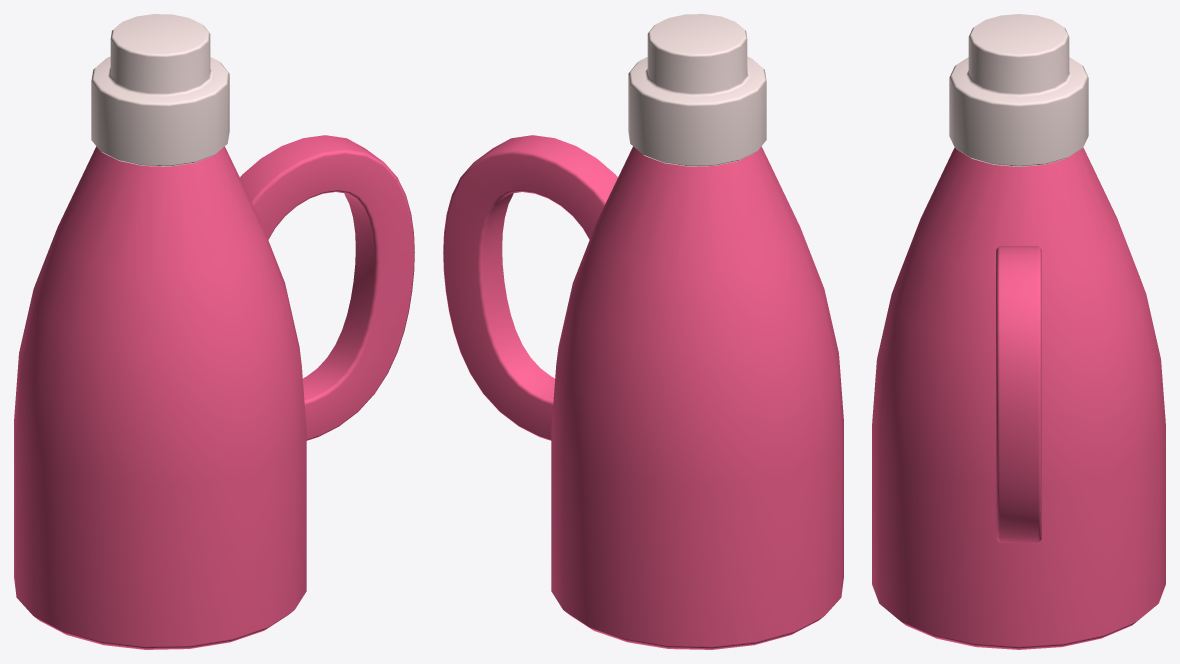
The model's file is Public_13_Bottle_7.glb.
3 renders of one model, left to right at view 1: azimuth 30°, elevation 25°; view 2: azimuth 150°, elevation 25°; view 3: azimuth 270°, elevation 25°, orthographic.
Parts seen in each view (by area): view 1: Public_13_Bottle_7; view 2: Public_13_Bottle_7; view 3: Public_13_Bottle_7.
Boxes of the visible parts, left/top/right/bottom form: Public_13_Bottle_7: left=14, top=14, right=414, bottom=649; Public_13_Bottle_7: left=443, top=14, right=843, bottom=649; Public_13_Bottle_7: left=872, top=14, right=1165, bottom=649.
Size of the model in its own units: 0.4658 by 0.6664 by 0.3188.
1 material, 1 textured.
